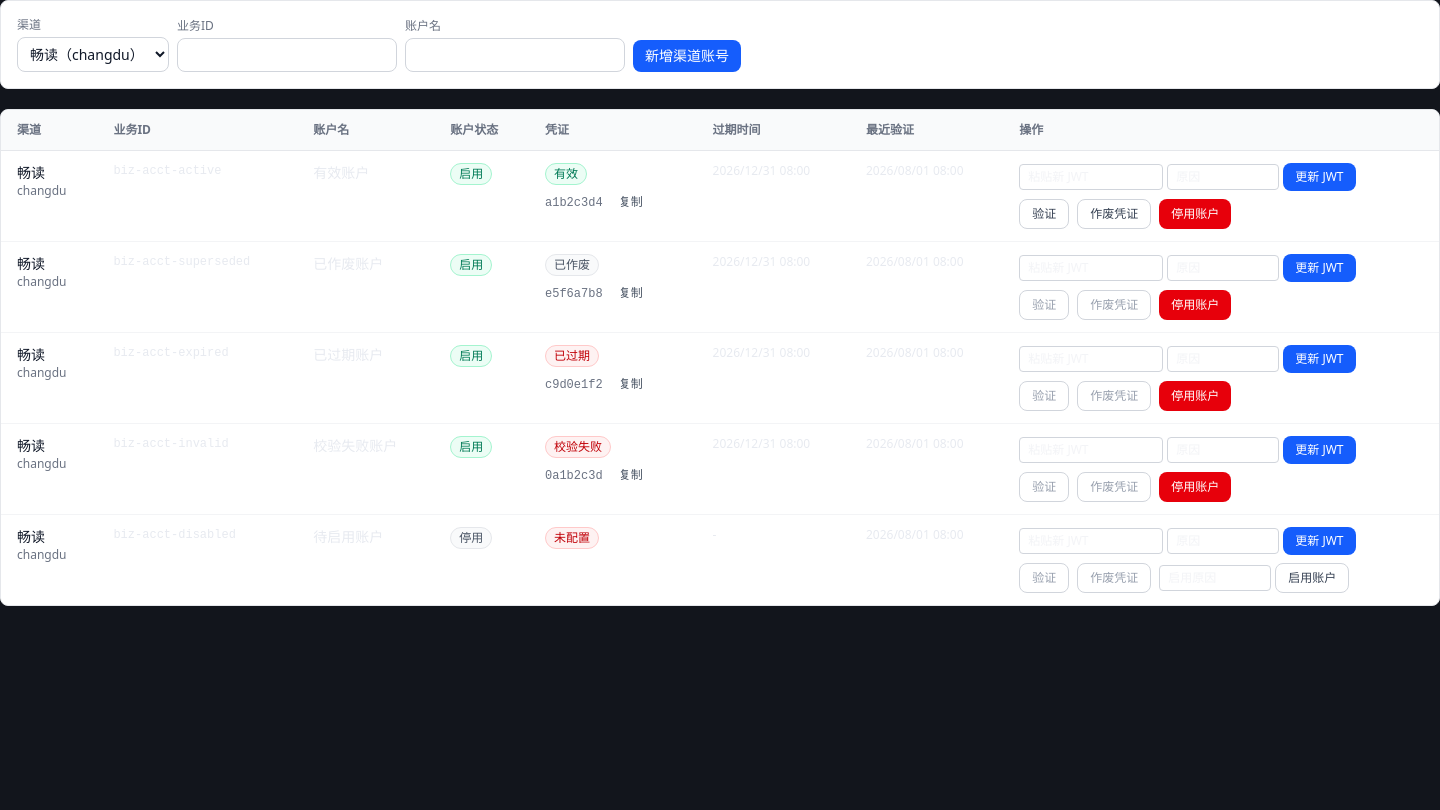
Test: 破坏性操作的二次确认 › 作废凭证先开确认框，并把要作废的指纹前缀写进正文
The image size is (1440, 810).
Click the button "作废凭证" in the row of "a1b2c3d4" at (1114, 214), box [1077,199,1151,229]
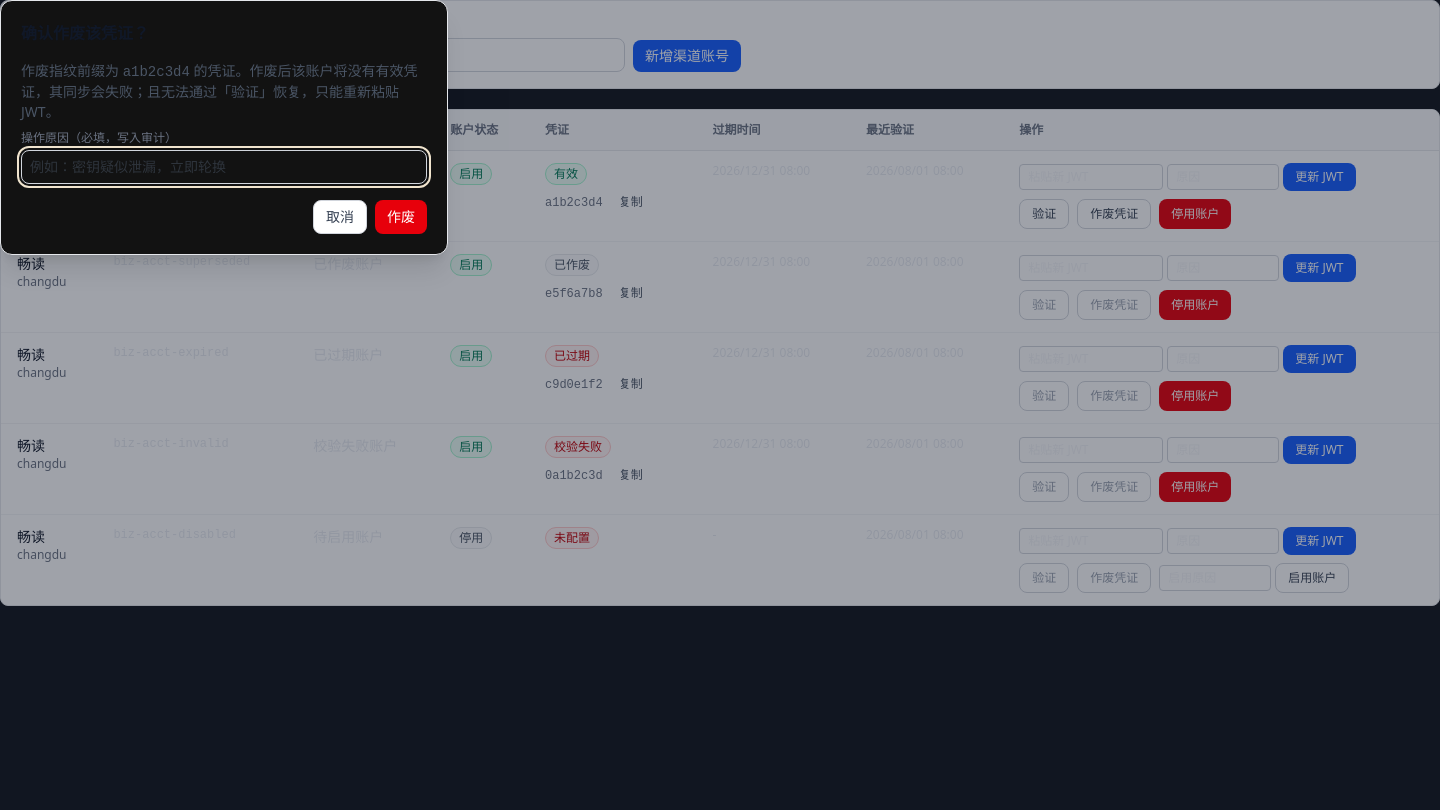
Now the dialog shows "a1b2c3d4", box [123,64,190,80]
